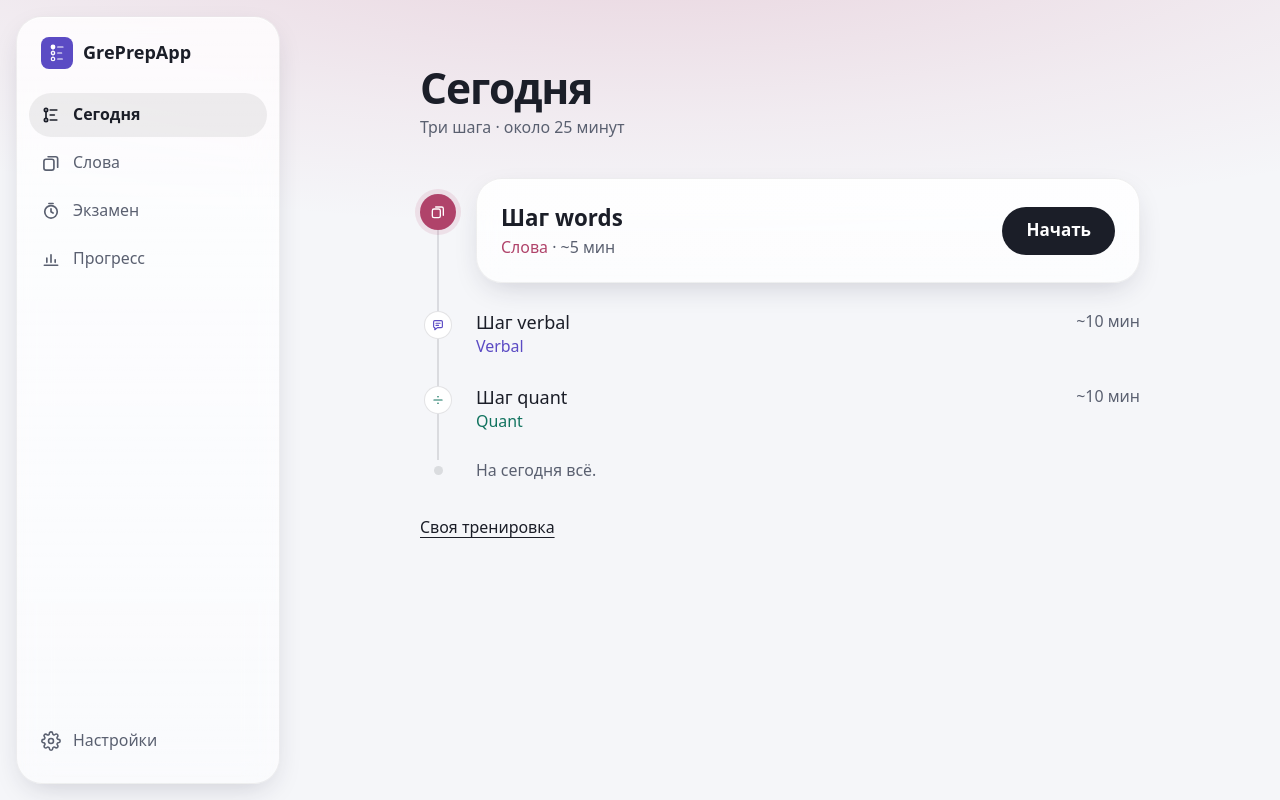
Test: ошибка IndexedDB оставляет вход рабочим, а тренировку недоступной
This screenshot has width=1280, height=800.
Check: the heading "Сегодня" is shown, box [420,59,592,116]
Click the link "Своя тренировка": (487, 527) [420,516,555,538]
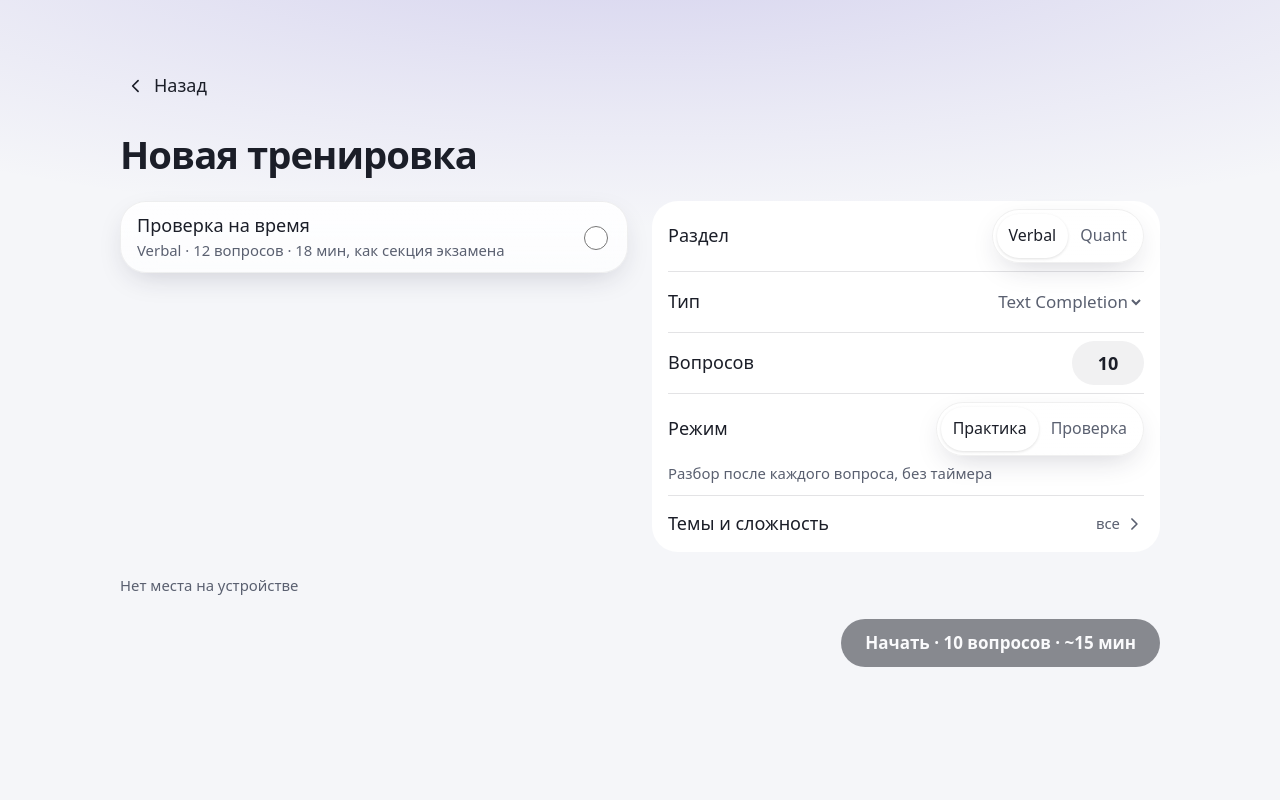
Check: the text "Нет места на устройстве" is shown, box [120,575,298,595]
Check: the button "Начать · 10 вопросов · ~15 мин" is disabled, box [841,619,1160,667]
